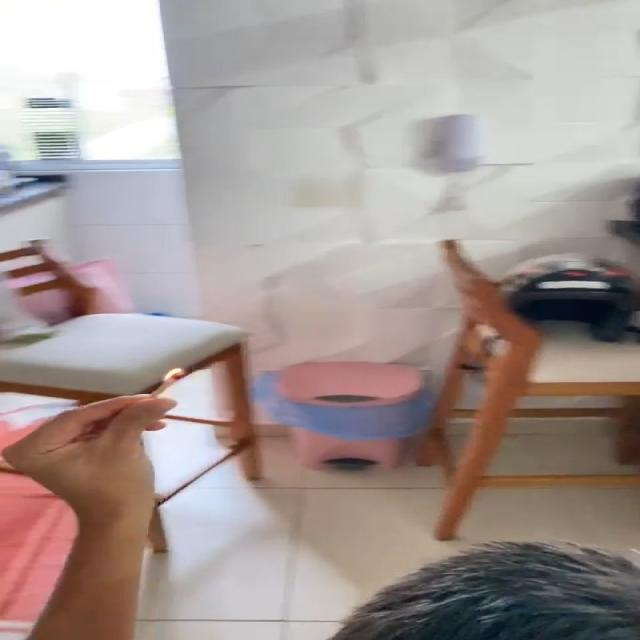fogo-ypXI: (162, 367, 184, 382)
